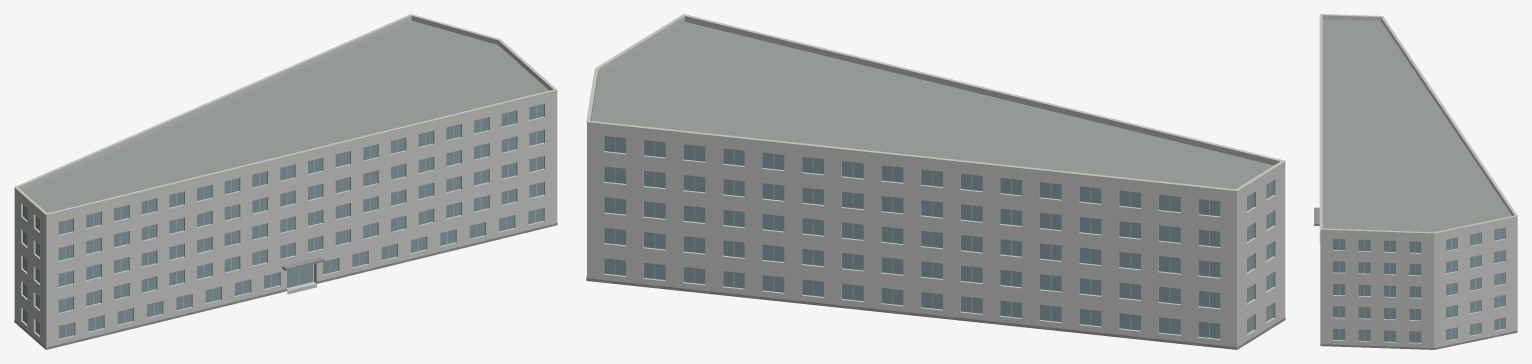
The picture shows the model from 3 angles, left to right: view 1: azimuth 30°, elevation 25°; view 2: azimuth 150°, elevation 25°; view 3: azimuth 270°, elevation 25°; orthographic projection. The views are drawn at different scales.
Visible parts, largest first — view 1: cheongun1m__wall, cheongun1m__roof, cheongun1m__glass, cheongun1m__parapet, cheongun1m__trim, cheongun1m__frame, cheongun1m__base; view 2: cheongun1m__wall, cheongun1m__roof, cheongun1m__glass, cheongun1m__parapet, cheongun1m__trim, cheongun1m__base, cheongun1m__frame; view 3: cheongun1m__roof, cheongun1m__wall, cheongun1m__glass, cheongun1m__trim, cheongun1m__parapet, cheongun1m__base, cheongun1m__frame.
Part boxes in pixels (<box>): cheongun1m__wall: <box>14,95,557,349</box>; cheongun1m__roof: <box>22,20,548,349</box>; cheongun1m__glass: <box>23,103,543,338</box>; cheongun1m__parapet: <box>14,15,557,219</box>; cheongun1m__trim: <box>14,14,557,215</box>; cheongun1m__frame: <box>25,105,536,337</box>; cheongun1m__base: <box>14,223,557,349</box>; cheongun1m__wall: <box>587,127,1285,349</box>; cheongun1m__roof: <box>591,22,1273,189</box>; cheongun1m__glass: <box>604,136,1273,338</box>; cheongun1m__parapet: <box>587,16,1285,196</box>; cheongun1m__trim: <box>586,14,1285,191</box>; cheongun1m__base: <box>586,276,1285,349</box>; cheongun1m__frame: <box>615,137,1269,337</box>; cheongun1m__roof: <box>1322,19,1511,232</box>; cheongun1m__wall: <box>1320,220,1517,347</box>; cheongun1m__glass: <box>1333,227,1504,342</box>; cheongun1m__trim: <box>1319,14,1517,233</box>; cheongun1m__parapet: <box>1320,15,1517,237</box>; cheongun1m__base: <box>1320,330,1517,349</box>; cheongun1m__frame: <box>1339,228,1499,342</box>.
Bounding box in the file's own units: 67.01 × 17 × 26.32.
Materials: 10 (1 with a texture image).
